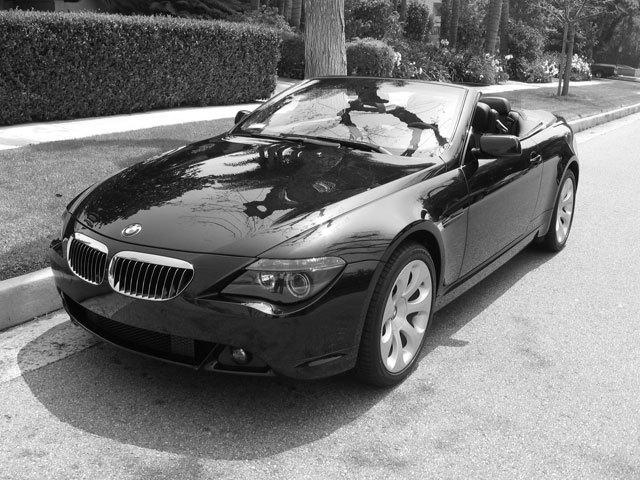car: (50, 78, 581, 392)
